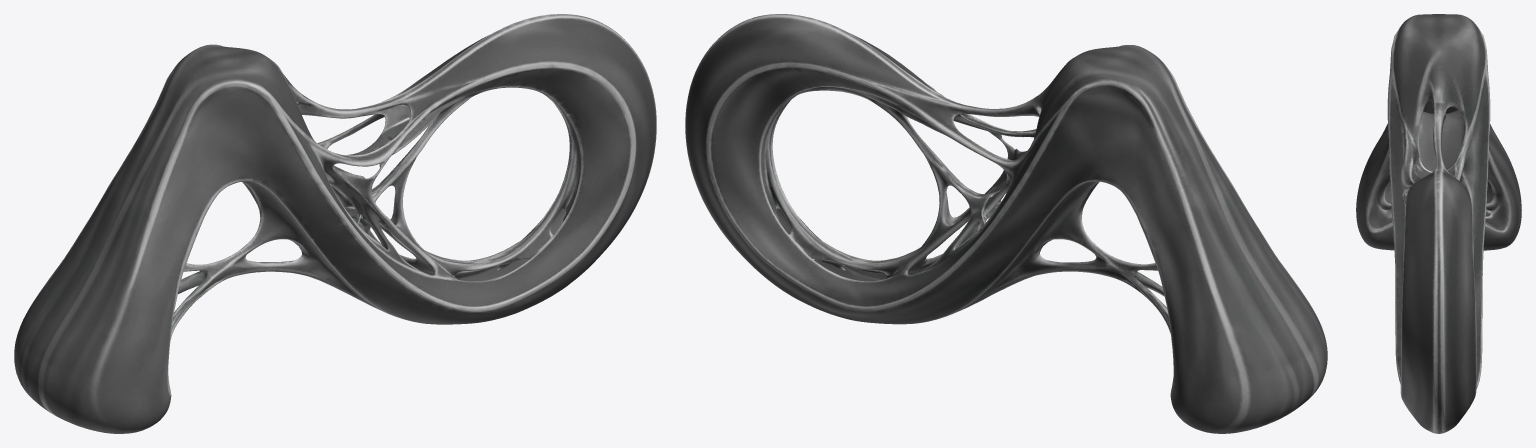
The model's file is ao-sculpture.glb.
3 views of the same model, side by side, from view 1: azimuth 30°, elevation 25°; view 2: azimuth 150°, elevation 25°; view 3: azimuth 270°, elevation 25° (orthographic). The views are drawn at different scales.
Bounding box in the file's own units: 1.9 × 0.938 × 0.5054.
1 material, 1 textured.
